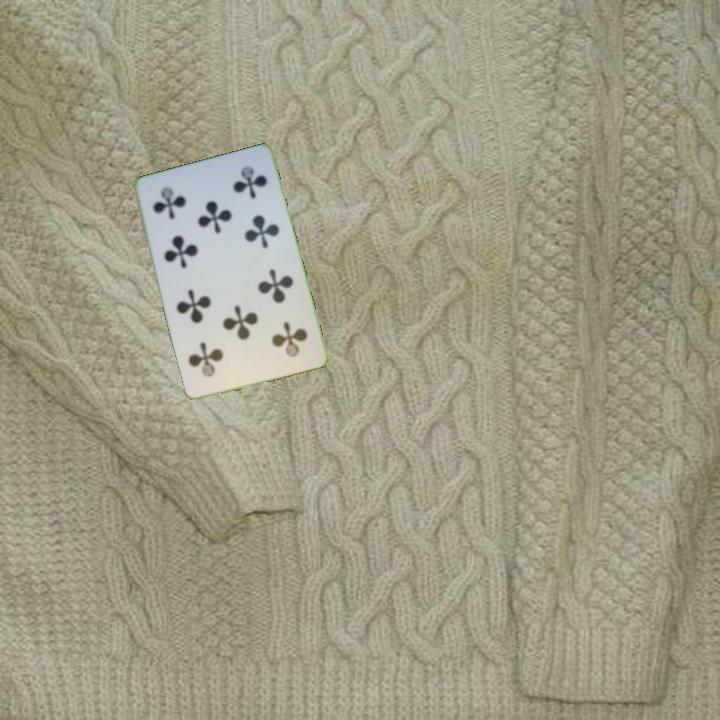c_10.png: (140, 170, 219, 242), (239, 302, 318, 374)
